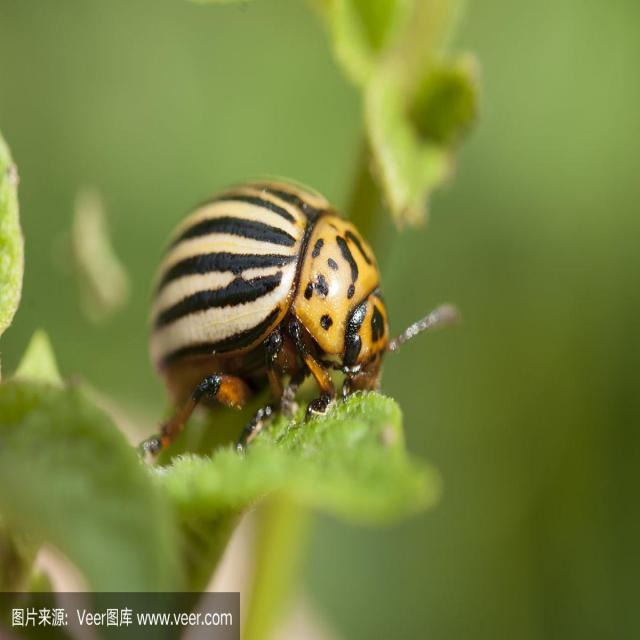ShuCaiHuaBanChong-Grown-: (125, 157, 405, 456)
